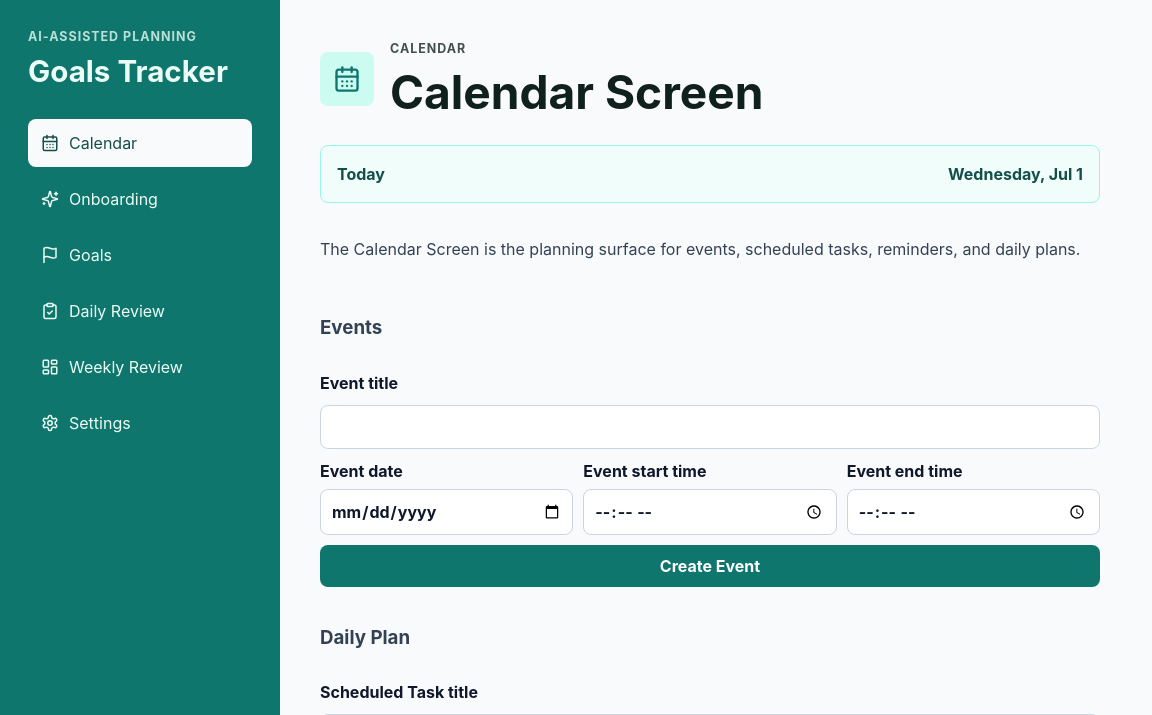
it: Goals Tracker app shell › lets the user create one-time Events on the Calendar Screen
In the field named "Event title": x=710, y=427 left=320, top=405, right=1100, bottom=449, type "Go to a contest"
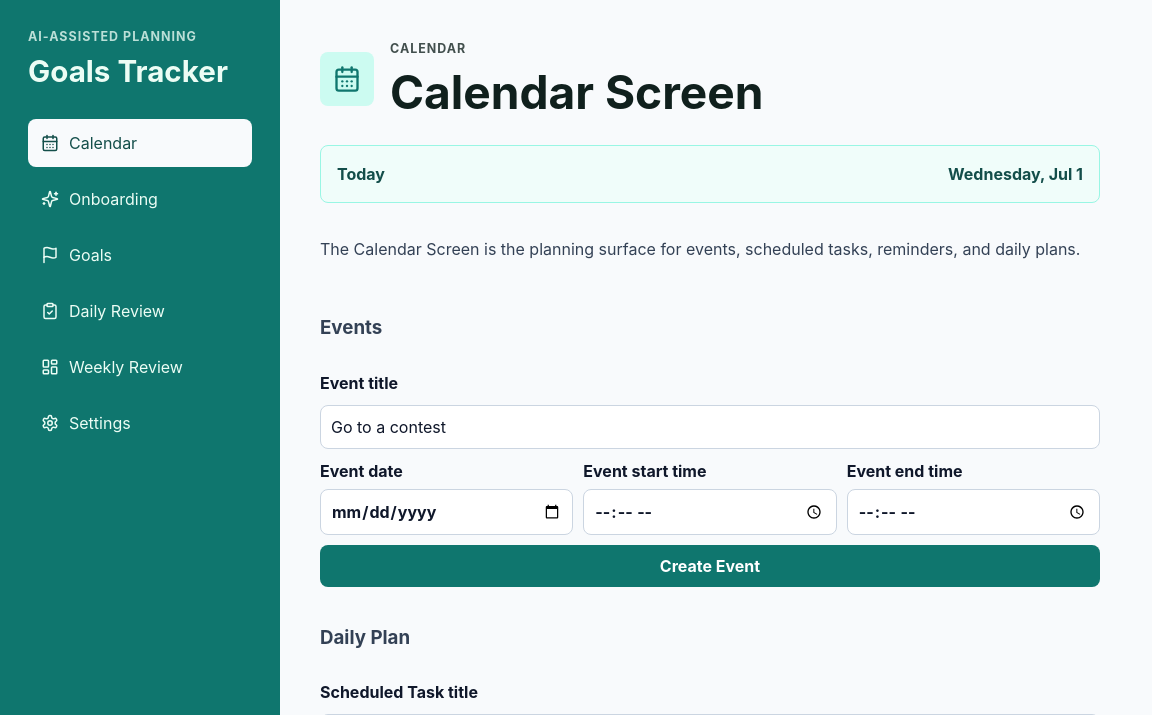
In the date field named "Event date": x=447, y=512 left=320, top=489, right=573, bottom=535, type "2026-07-05"
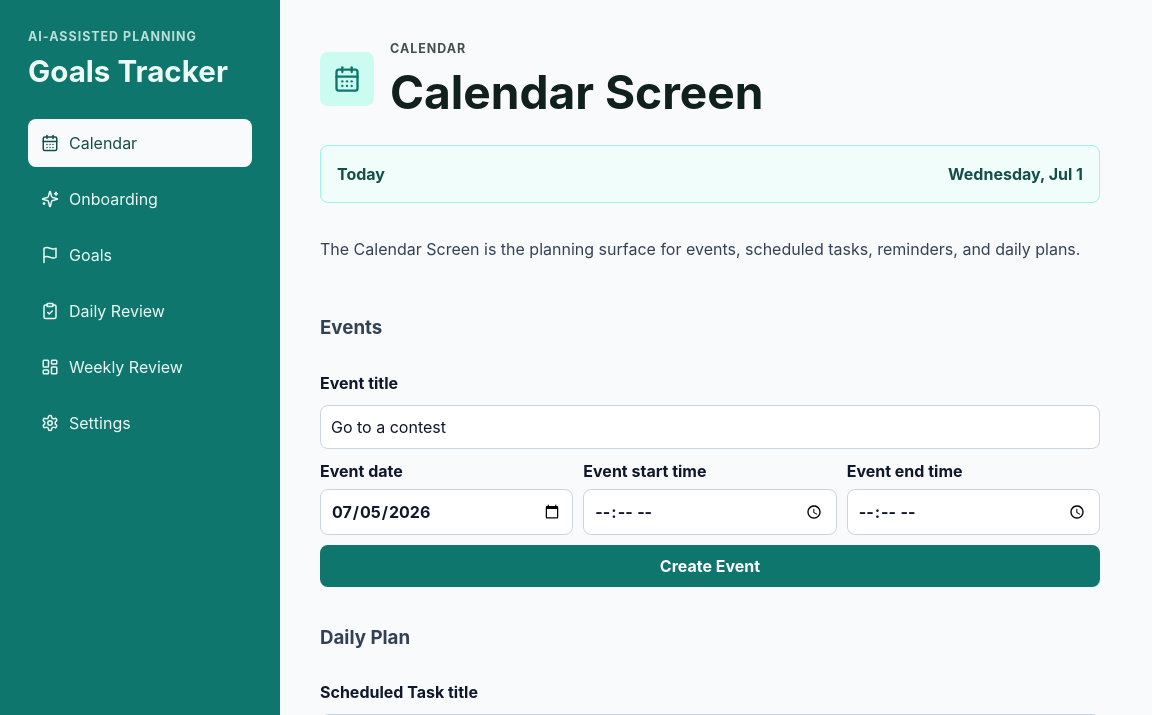
In the time field named "Event start time": x=710, y=512 left=583, top=489, right=837, bottom=535, type "15:00"
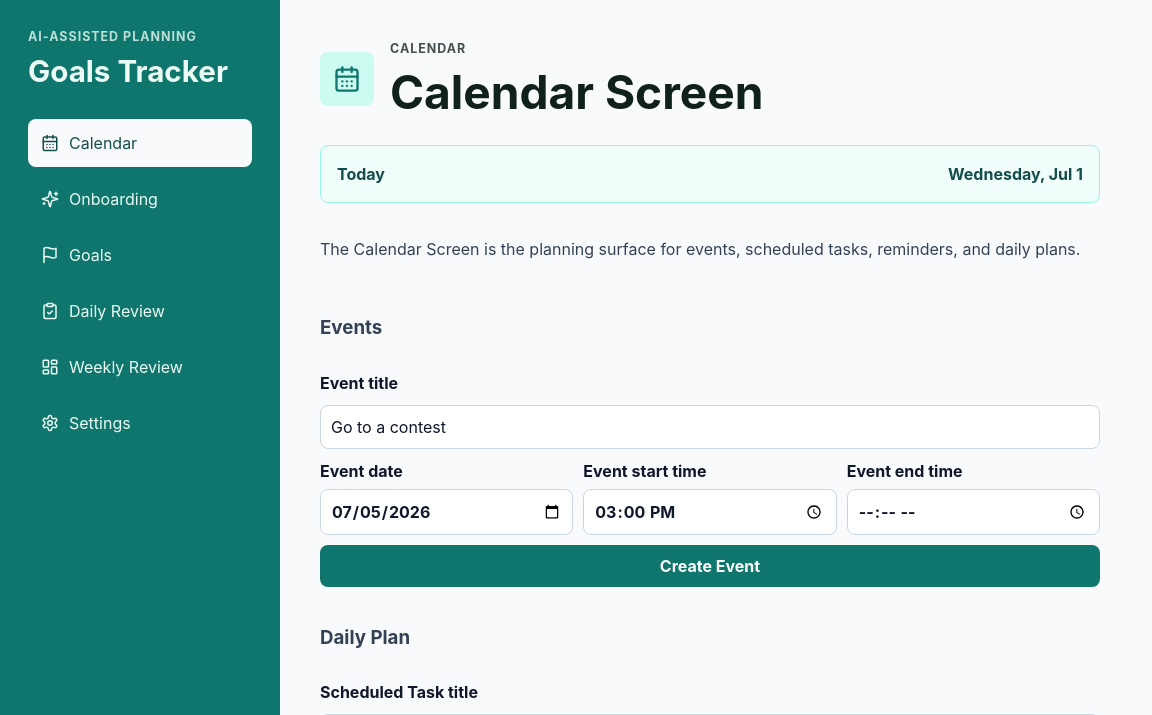
In the time field named "Event end time": x=973, y=512 left=847, top=489, right=1100, bottom=535, type "16:00"
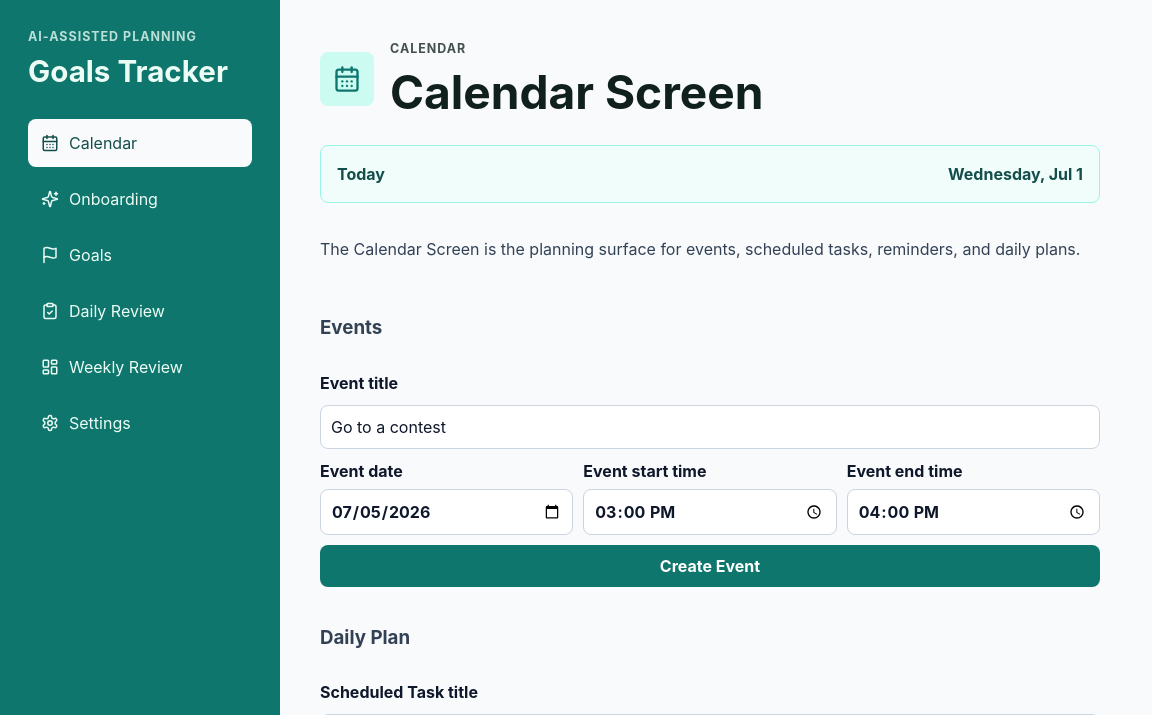
Click the button "Create Event": x=710, y=566 left=320, top=545, right=1100, bottom=587
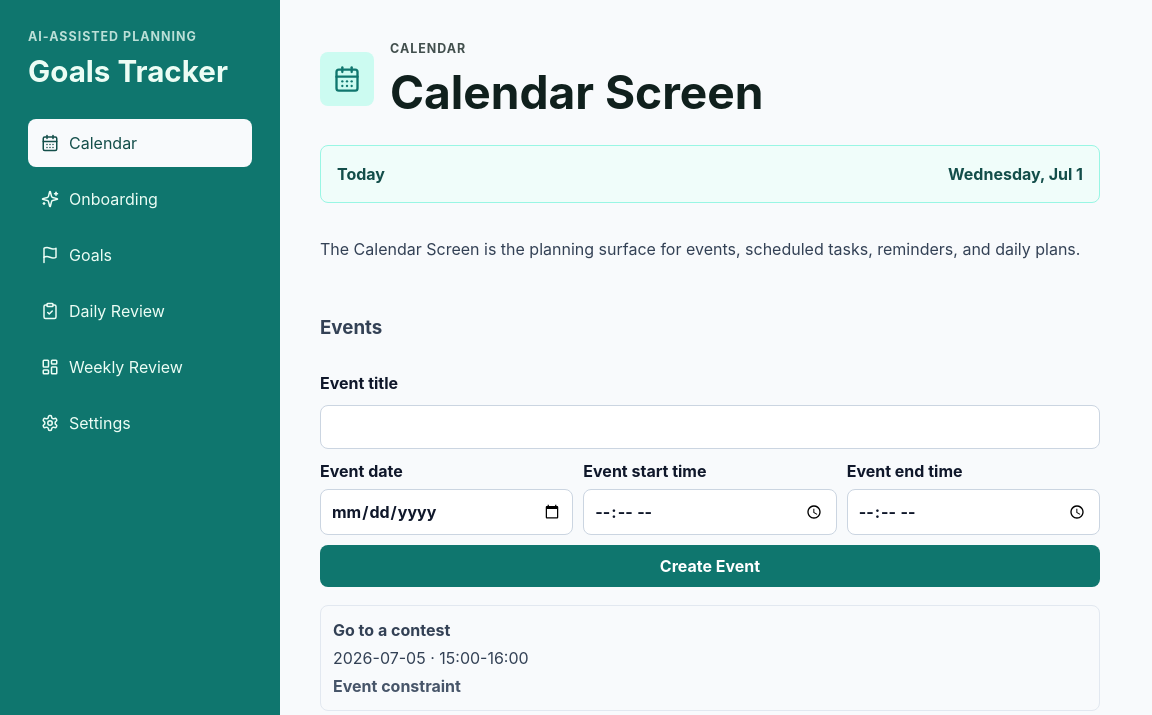
Now the text "Go to a contest" is shown, box left=333, top=620, right=450, bottom=640
Now the text "15:00-16:00" is shown, box left=333, top=648, right=529, bottom=668
Now the text "Event constraint" is shown, box left=333, top=676, right=461, bottom=696
